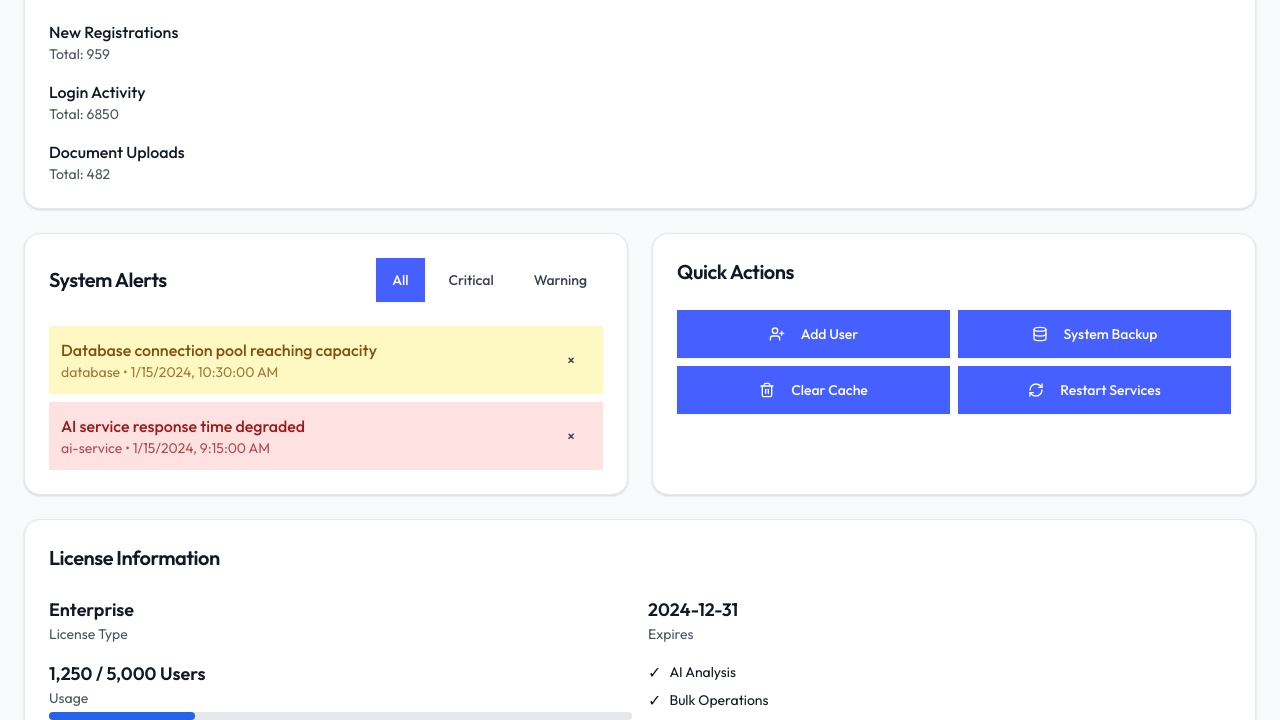
Test case: AdminDashboardPage › System Alerts and Notifications › should dismiss individual alerts
The image size is (1280, 720).
(page scrolled)
Click the button with test id "dismiss-alert-1". click: [571, 360]
box: [551,338,591,382]
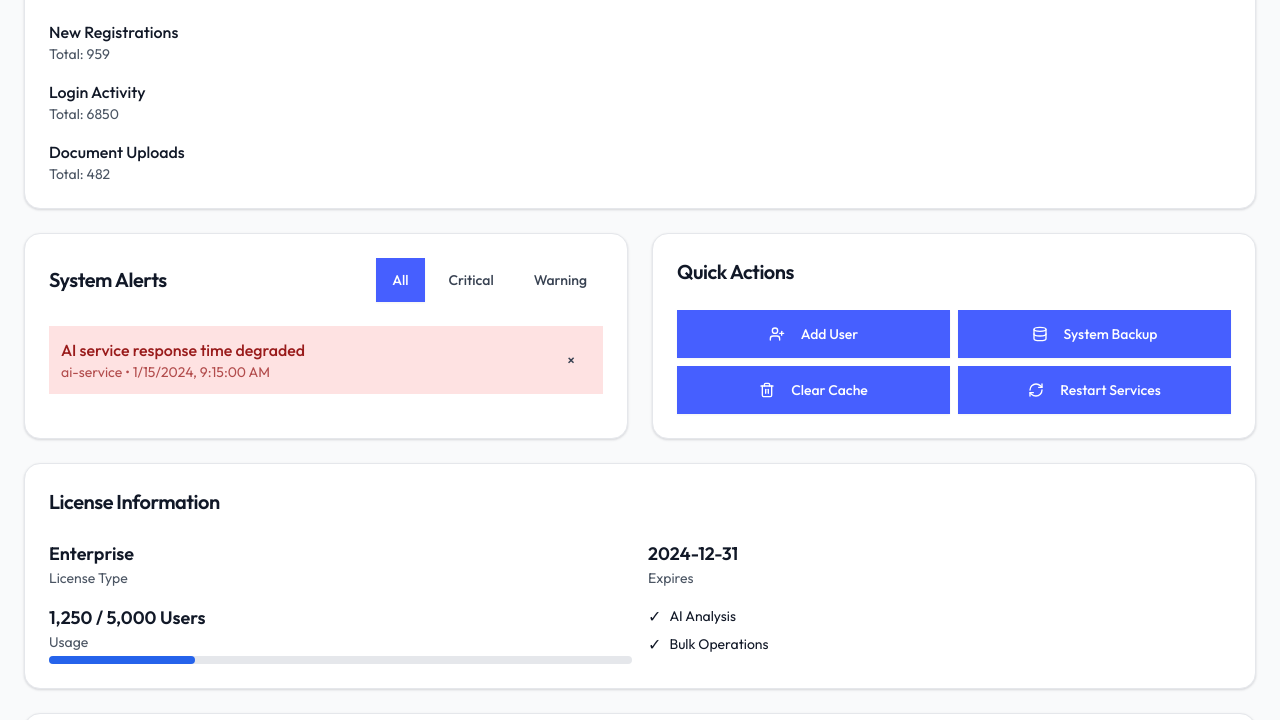
Check: the element with test id "alert-warning-1" is gone
